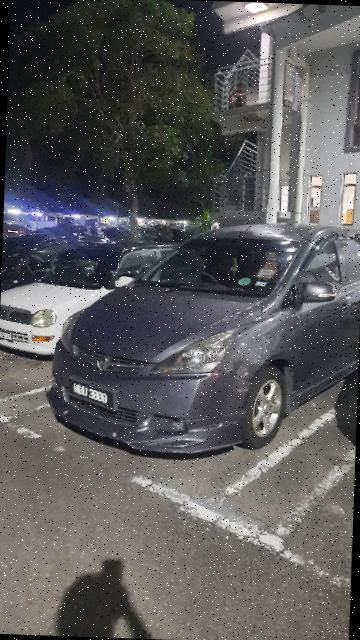License_Plate: (66, 375, 121, 415)
car: (48, 214, 360, 464)
